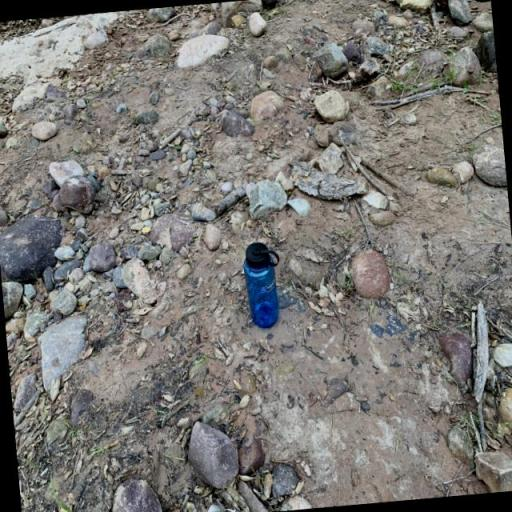bottle: (241, 240, 285, 329)
